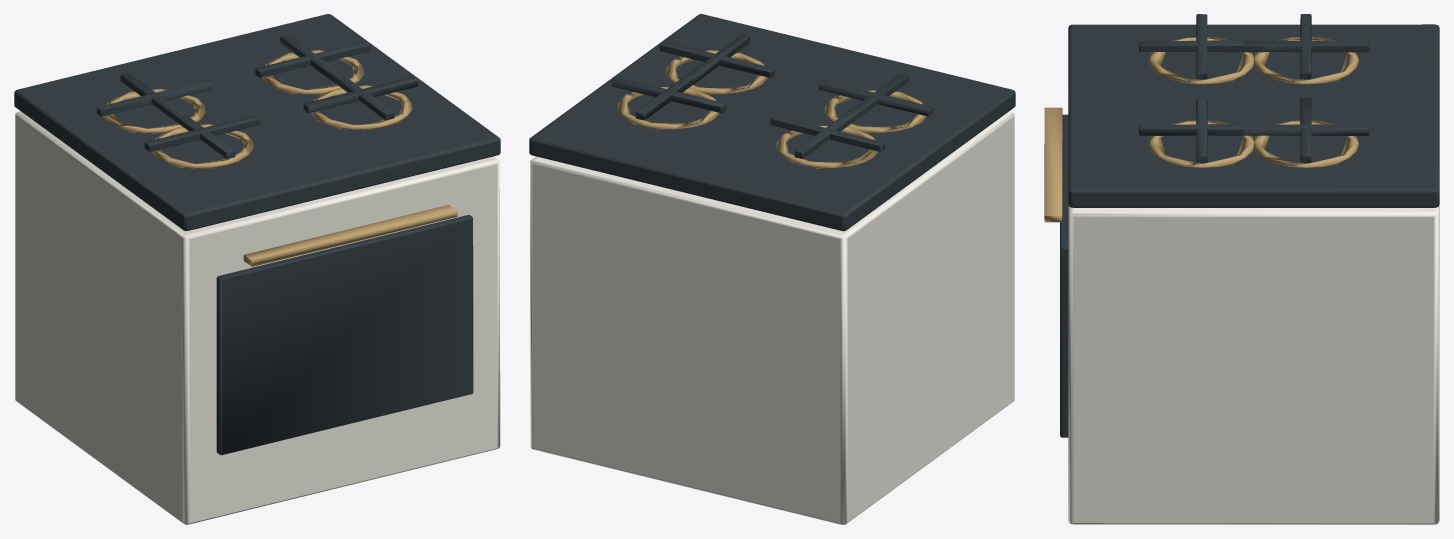
The model's file is stove-8-1.lod.glb.
The picture shows the model from 3 angles, left to right: view 1: azimuth 30°, elevation 25°; view 2: azimuth 150°, elevation 25°; view 3: azimuth 270°, elevation 25°; orthographic projection. The views are drawn at different scales.
Visible parts, largest first — view 1: upholstery (×2), part; view 2: upholstery (×2), part; view 3: upholstery (×2), part.
Boxes of the visible parts, x1=… form: upholstery (×2): x1=14, y1=14, x2=500, y2=524; part: x1=103, y1=50, x2=457, y2=266; upholstery (×2): x1=529, y1=14, x2=1015, y2=524; part: x1=617, y1=50, x2=926, y2=168; upholstery (×2): x1=1060, y1=14, x2=1439, y2=524; part: x1=1044, y1=37, x2=1358, y2=222.
Size of the model in its own units: 1 by 1 by 1.
